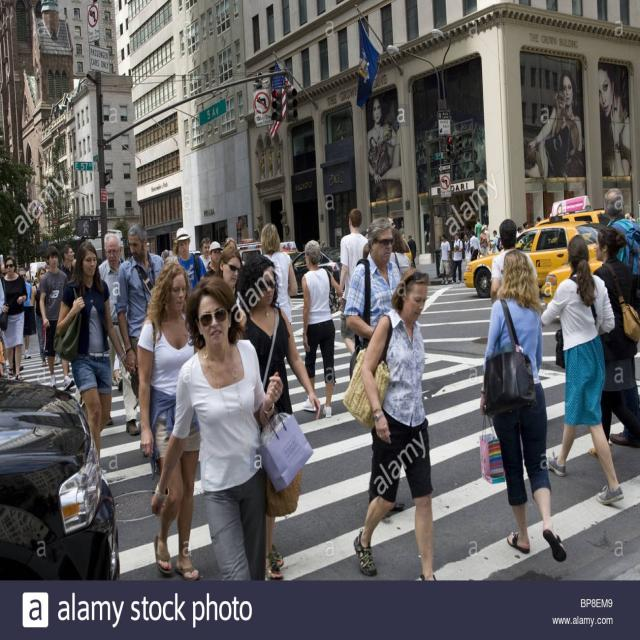body: (151, 275, 286, 583), (475, 249, 572, 567), (236, 251, 322, 581), (352, 265, 437, 581), (539, 231, 626, 507), (135, 260, 202, 580), (55, 240, 136, 497), (343, 216, 407, 516), (520, 44, 640, 188), (586, 224, 640, 458), (115, 223, 164, 459), (602, 186, 640, 449), (97, 232, 141, 437), (300, 238, 344, 419), (38, 244, 77, 395), (362, 94, 409, 200), (337, 207, 369, 357), (489, 218, 539, 306), (259, 221, 300, 327), (1, 255, 28, 384), (30, 266, 60, 367), (175, 226, 208, 294), (214, 246, 244, 303), (360, 217, 397, 259), (17, 266, 33, 360), (437, 233, 451, 286), (59, 243, 77, 283), (451, 232, 464, 284), (514, 215, 542, 238), (0, 275, 6, 379), (207, 240, 223, 275), (197, 236, 213, 271), (469, 230, 482, 262), (474, 216, 483, 261), (488, 229, 504, 254), (464, 233, 476, 265), (478, 223, 489, 256), (407, 234, 417, 270), (221, 235, 242, 250), (25, 269, 40, 285), (160, 248, 170, 262)
